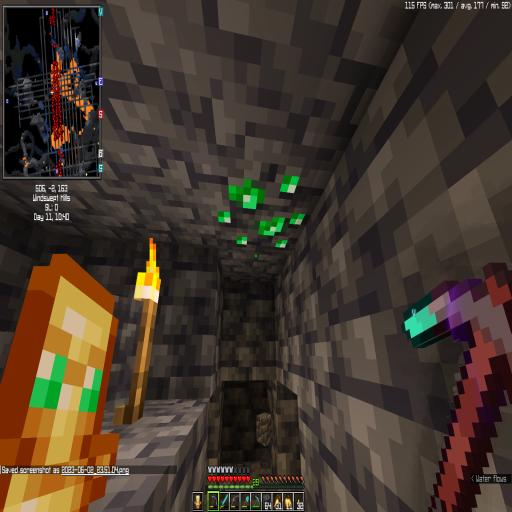emerald ore: (215, 154, 307, 264)
